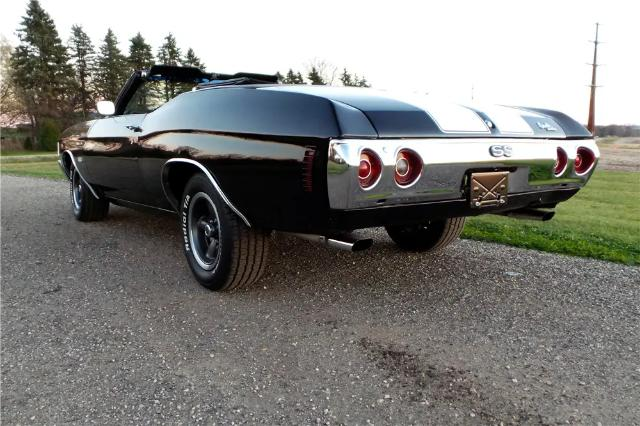chevelle-1972: (56, 64, 600, 291)
